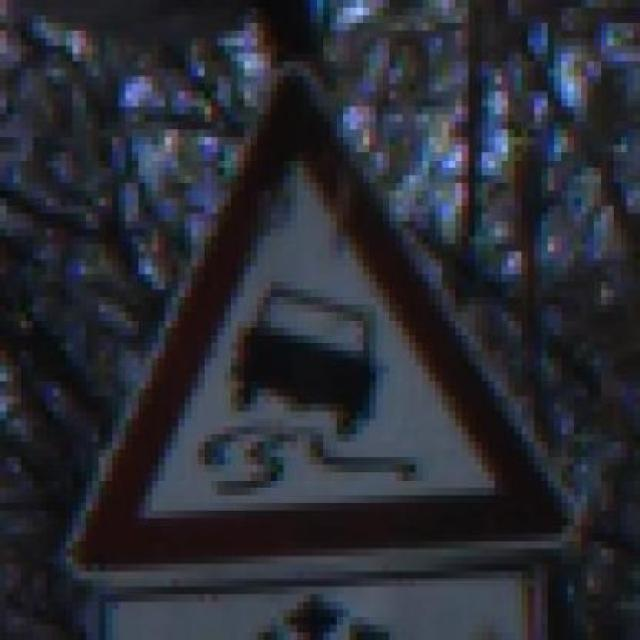Slippery Road Ahead: (53, 45, 581, 587)
